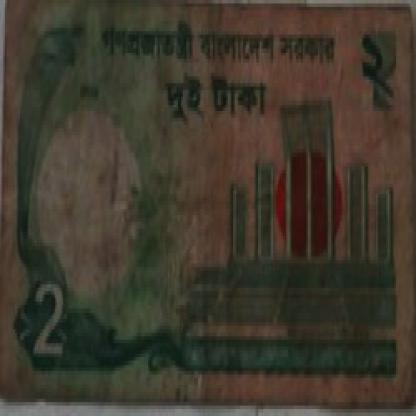two taka: (30, 271, 78, 368), (358, 35, 396, 132)
